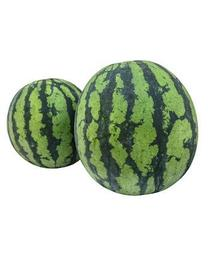watermelon: (76, 57, 199, 197), (6, 76, 87, 170)
